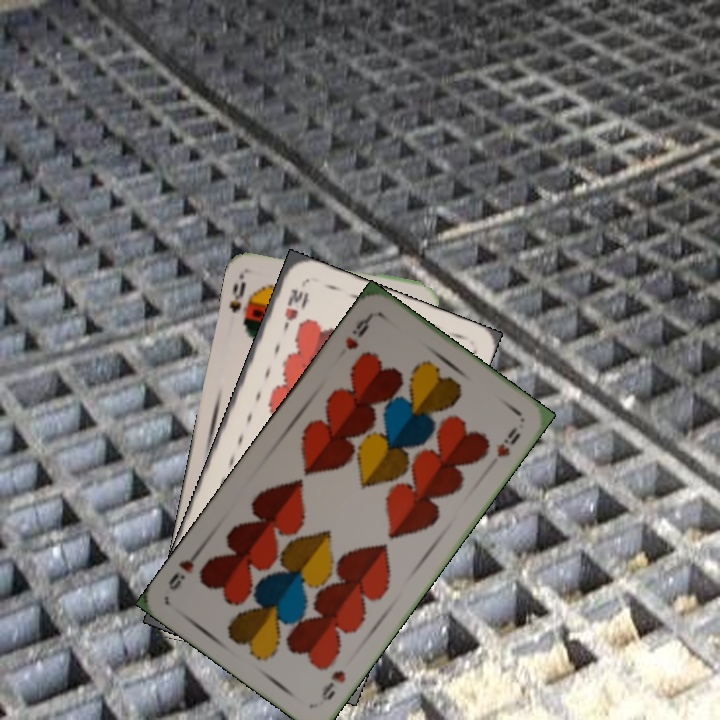H10: (279, 284, 309, 334)
H9: (341, 311, 375, 353), (317, 666, 349, 704)
SO: (225, 269, 256, 331)
